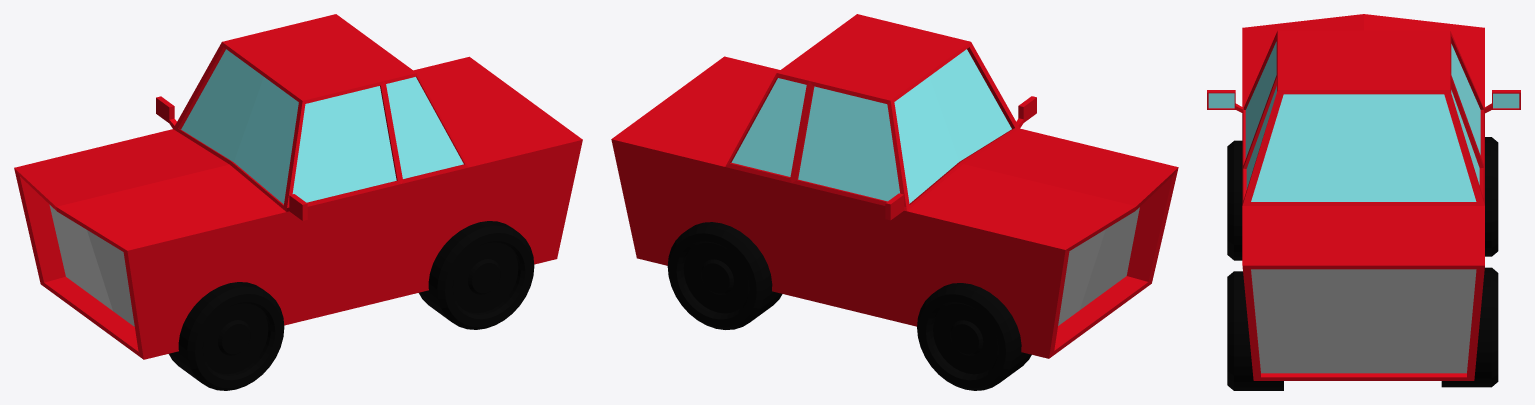
The model's file is FlippedOff_Car.fbx.
3 views of the same model, side by side, from view 1: azimuth 30°, elevation 25°; view 2: azimuth 150°, elevation 25°; view 3: azimuth 270°, elevation 25° (orthographic). The views are drawn at different scales.
Visible parts, largest first — view 1: Car, Wheel, Wheel.002; view 2: Car, Wheel.003, Wheel.001; view 3: Car, Wheel.002, Wheel.003, Wheel, Wheel.001.
Part boxes in pixels (x1,y1,x2,y2): Car: (14,14,582,359); Wheel: (169,282,284,390); Wheel.002: (419,221,534,329); Car: (611,14,1178,358); Wheel.003: (667,222,782,329); Wheel.001: (917,283,1031,390); Car: (1207,14,1520,380); Wheel.002: (1227,271,1283,390); Wheel.003: (1441,267,1498,387); Wheel: (1227,140,1242,260); Wheel.001: (1485,137,1498,256).
Bounding box in the file's own units: 671 × 345 × 363.
